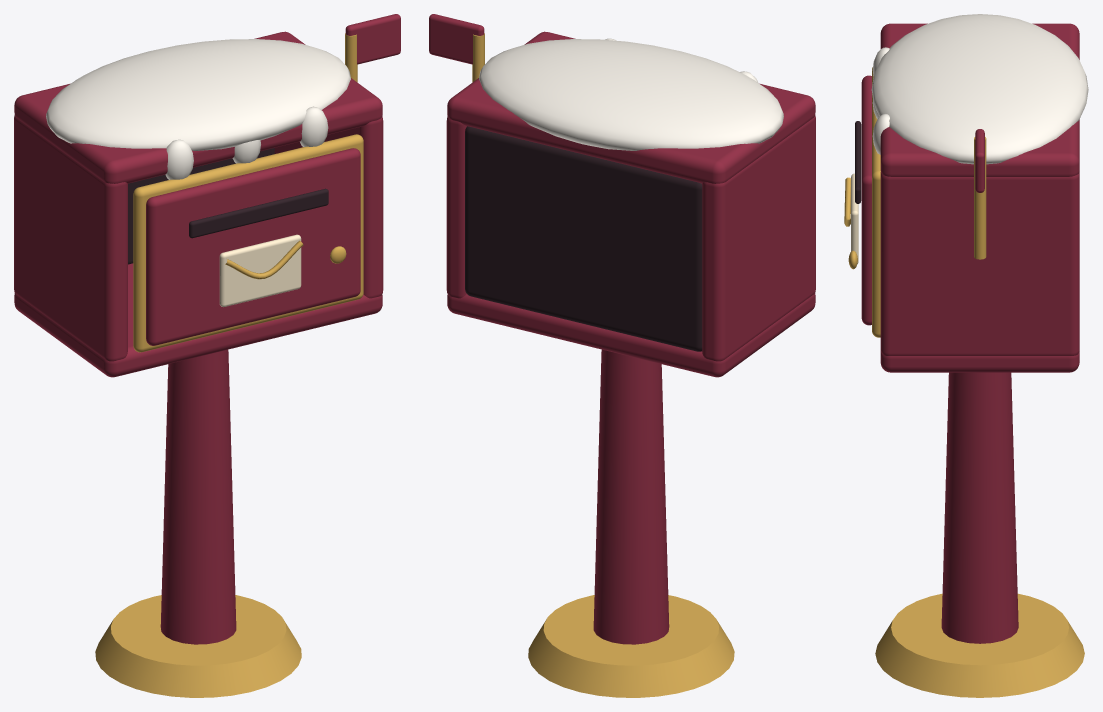
The model's file is mailbox.glb.
The picture shows the model from 3 angles, left to right: view 1: azimuth 30°, elevation 25°; view 2: azimuth 150°, elevation 25°; view 3: azimuth 270°, elevation 25°; orthographic projection.
Visible parts, largest first — view 1: Mailbox_Reaction, Mailbox_Door; view 2: Mailbox_Reaction; view 3: Mailbox_Reaction, Mailbox_Door.
Boxes of the visible parts, <box> form: Mailbox_Reaction: <box>14,14,400,697</box>; Mailbox_Door: <box>133,134,363,352</box>; Mailbox_Reaction: <box>429,14,815,697</box>; Mailbox_Reaction: <box>871,14,1088,697</box>; Mailbox_Door: <box>844,67,880,337</box>.
Bounding box in the file's own units: 0.77 × 1.26 × 0.466.
